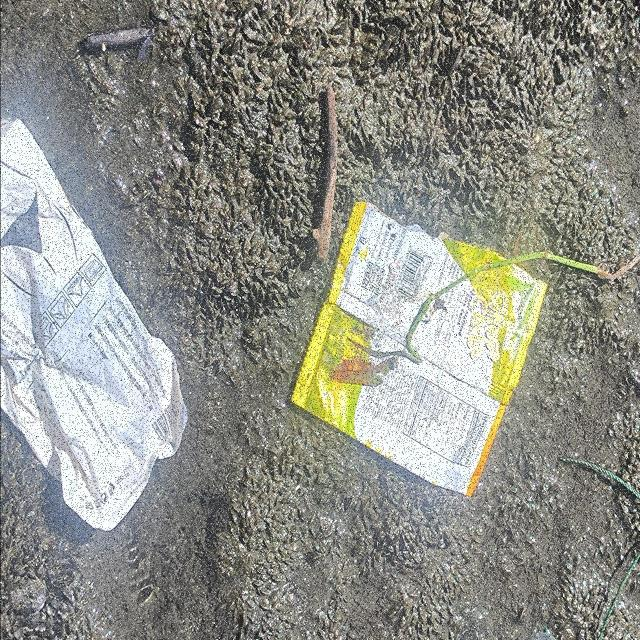plastic_waste: (1, 120, 189, 533), (292, 203, 549, 499)
